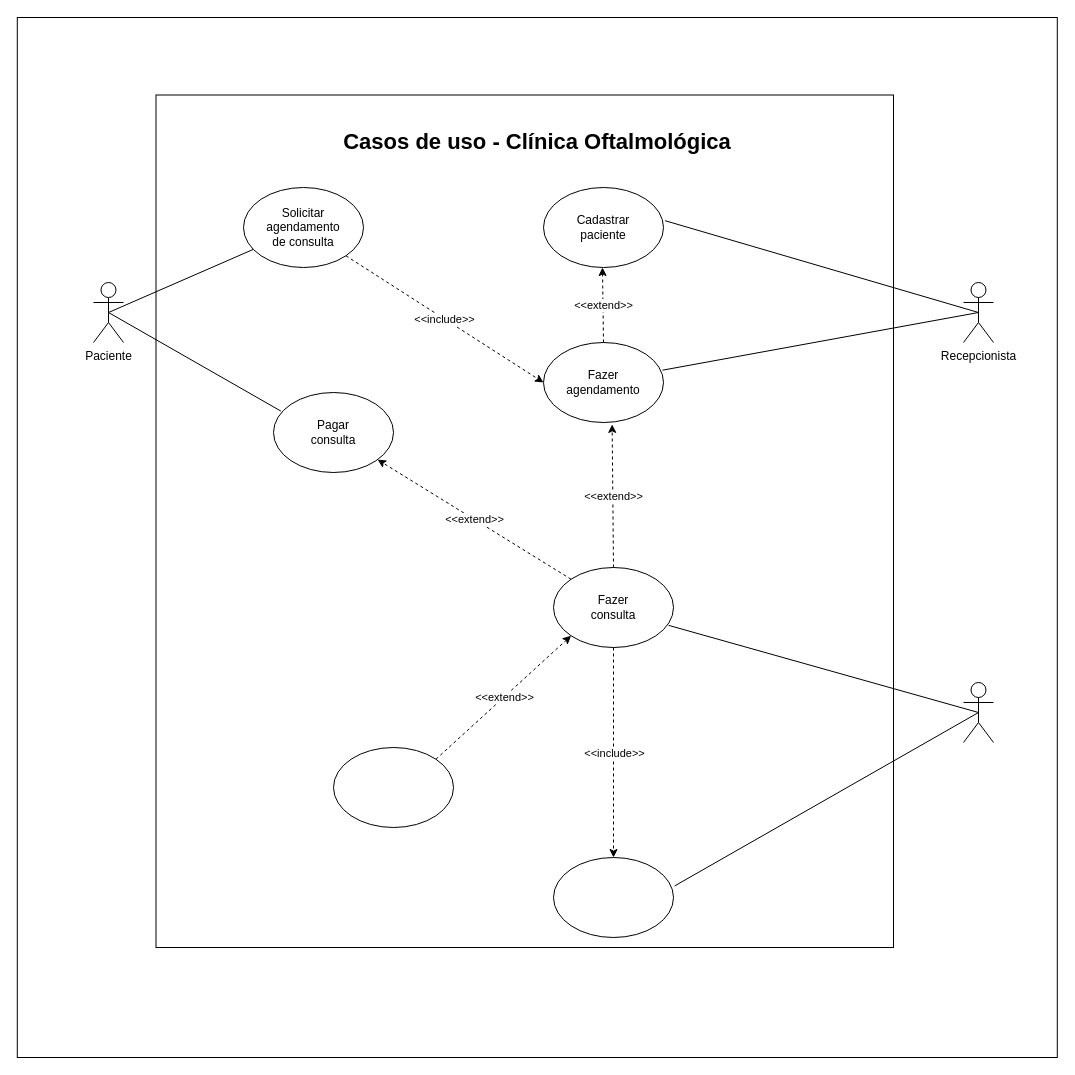
Image size: 1075x1075. Some labels were removed from this diagram. The box of each missing label's shape, as (x1, y1, x2, y2) in pixels:
Gerar prontuário: (552, 856, 674, 938)
Médico: (962, 682, 994, 742)
Realizar exames: (332, 746, 454, 828)
